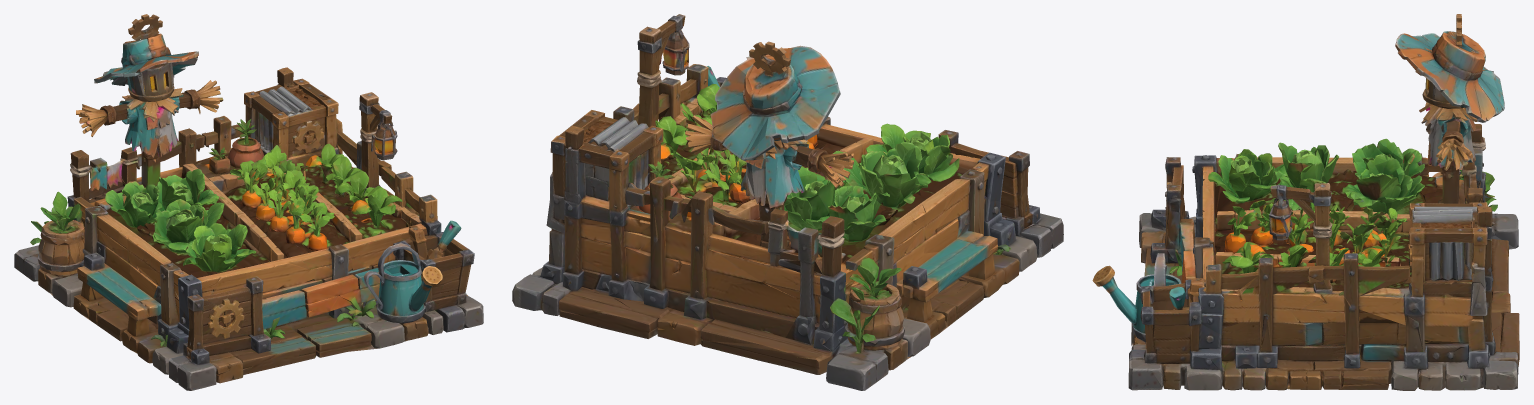
File: building_garden.glb
The picture shows the model from 3 angles, left to right: view 1: azimuth 30°, elevation 25°; view 2: azimuth 150°, elevation 25°; view 3: azimuth 270°, elevation 25°; orthographic projection. The views are drawn at different scales.
Visible parts, largest first — view 1: output_unwrapped; view 2: output_unwrapped; view 3: output_unwrapped.
Boxes of the visible parts, bbox=[...] form: output_unwrapped: bbox=[14, 14, 483, 390]; output_unwrapped: bbox=[512, 14, 1063, 390]; output_unwrapped: bbox=[1092, 14, 1519, 390].
Bounding box in the file's own units: 1.7 × 1.34 × 1.91.
Materials: 1 (1 with a texture image).
